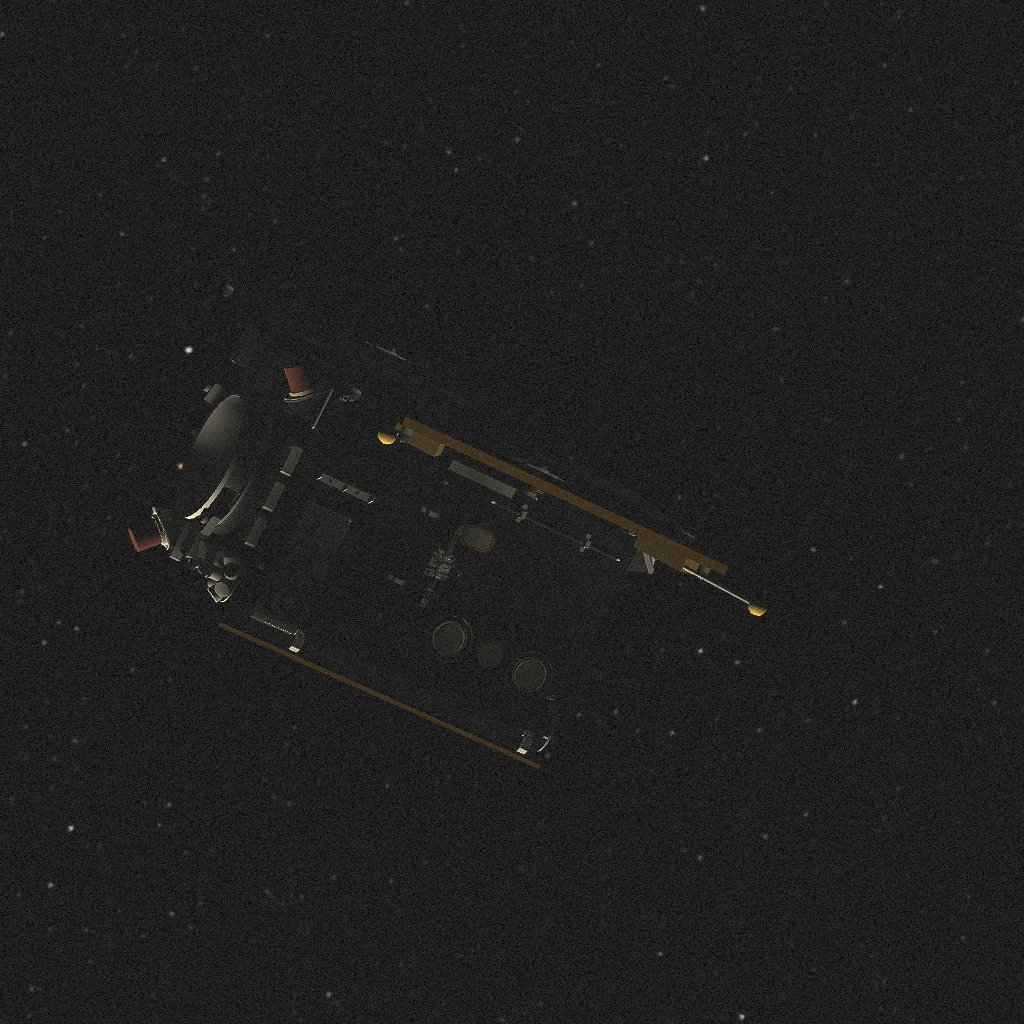proba_2: (129, 266, 767, 769)
